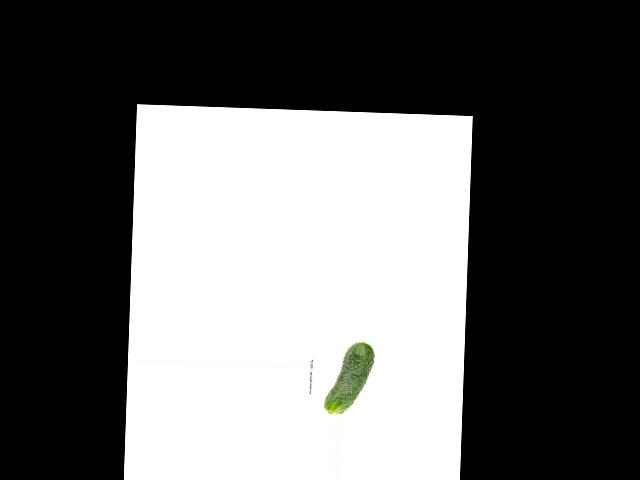cucumber: (323, 340, 374, 415)
